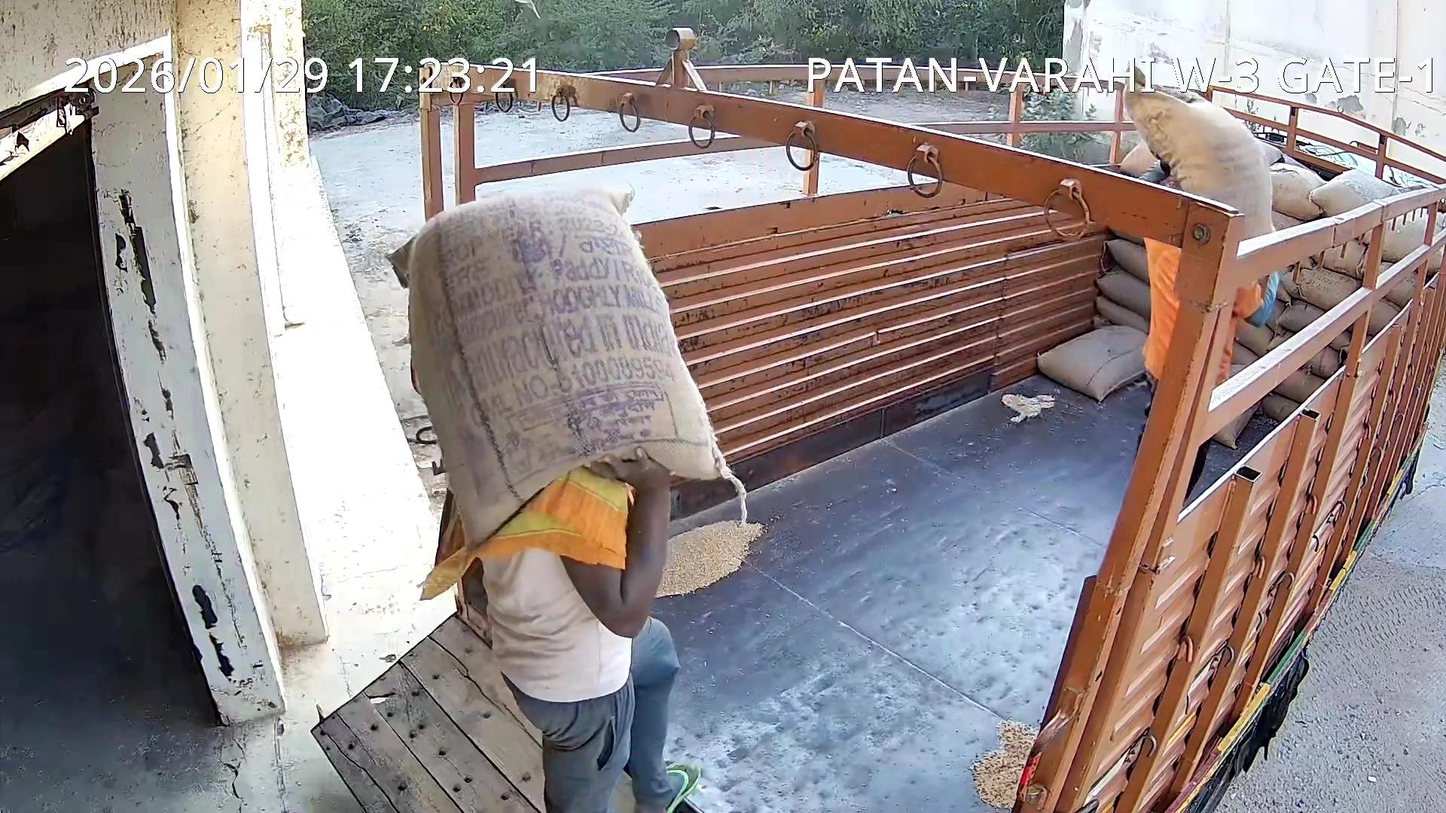Sack: (392, 188, 729, 549)
